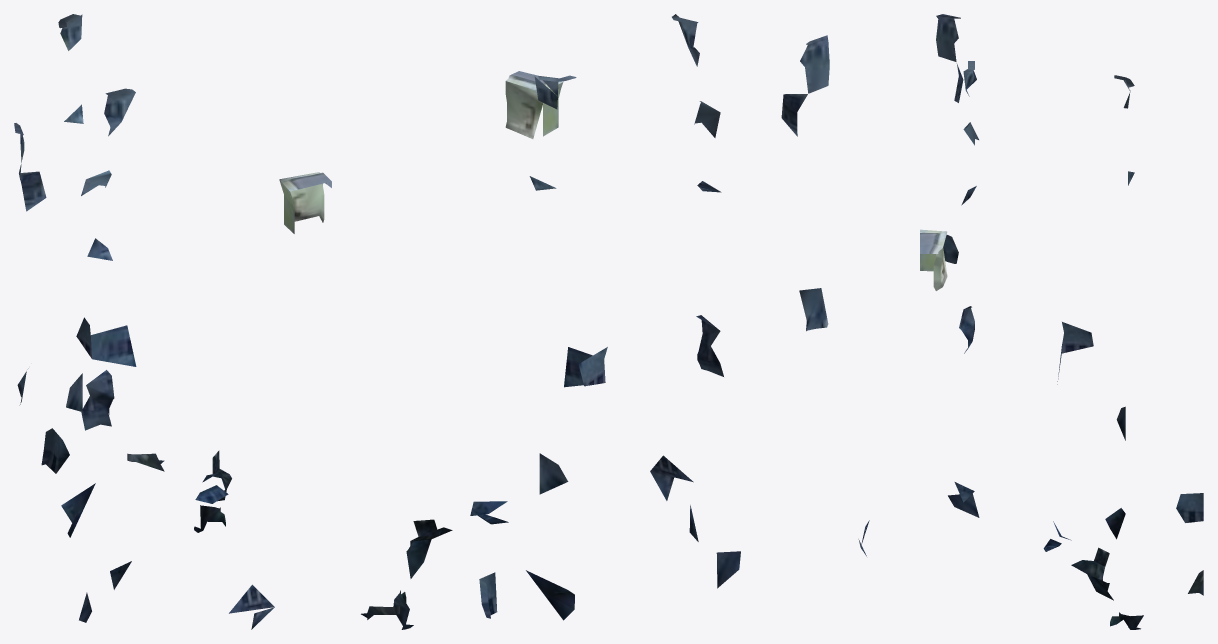
3 renders of one model, left to right at view 1: azimuth 30°, elevation 25°; view 2: azimuth 150°, elevation 25°; view 3: azimuth 270°, elevation 25°, orthographic. The views are drawn at different scales.
Parts seen in each view (by area): view 1: 30436272704370616436_1; view 2: 30436272704370616436_1; view 3: 30436272704370616436_1.
Boxes of the visible parts, left/top/right/bottom form: 30436272704370616436_1: left=14, top=14, right=331, bottom=629; 30436272704370616436_1: left=361, top=14, right=829, bottom=629; 30436272704370616436_1: left=858, top=14, right=1203, bottom=629.
Size of the model in its own units: 21.18 by 36.36 by 23.3.
1 material, 1 textured.
